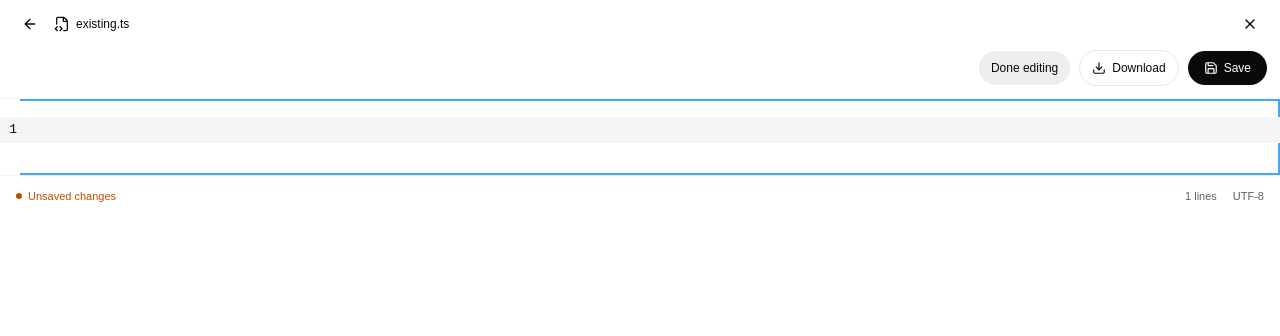
Test: creating a cached existing filename keeps an empty draft and a null expected hash
The image size is (1280, 336).
expect the field named "File contents" does not show "existing file": met, box [20, 117, 1279, 143]
expect the text "Unsaved changes" is shown: met, box [16, 190, 116, 202]
Click the button "Save" at point(1227, 68), box [1187, 50, 1268, 86]
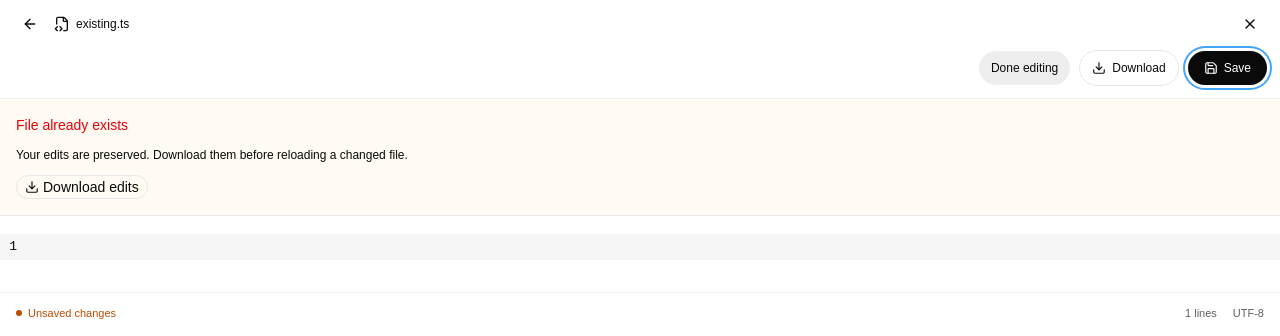
expect the message that starts with "File already exists" is shown: met, box [0, 99, 1279, 216]
